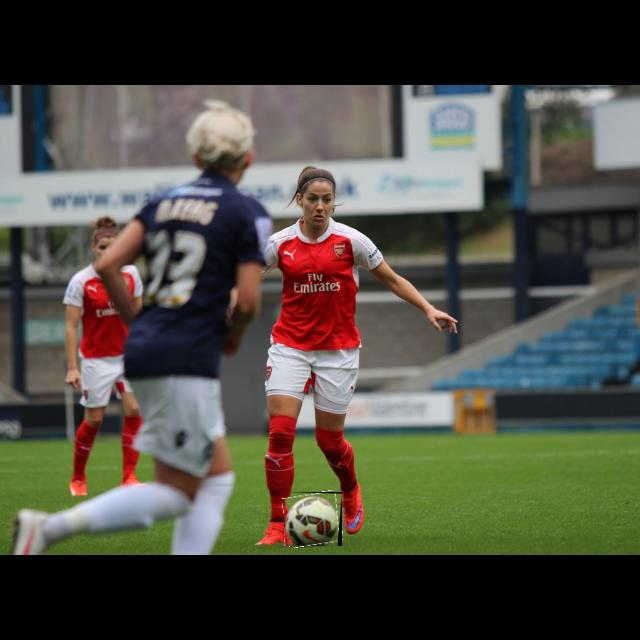Football: (284, 492, 342, 546)
